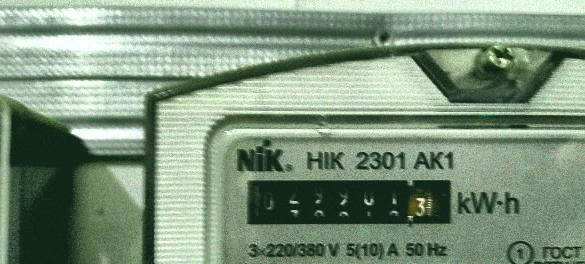0: (361, 182, 375, 207), (260, 189, 276, 210)
1: (386, 183, 399, 206)
2: (285, 186, 301, 205)
3: (413, 194, 426, 216)
9: (336, 184, 350, 206), (311, 184, 323, 206)
screen: (234, 169, 461, 233)
